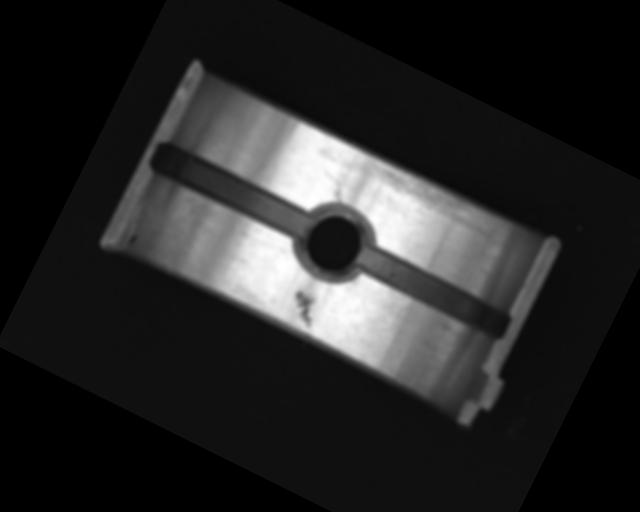blot: (124, 230, 139, 249)
bruise: (283, 285, 326, 330)
gap: (147, 138, 317, 244), (353, 240, 516, 342)
hole: (287, 194, 384, 291)
nick: (327, 180, 350, 205)
scratch: (363, 152, 512, 247)
